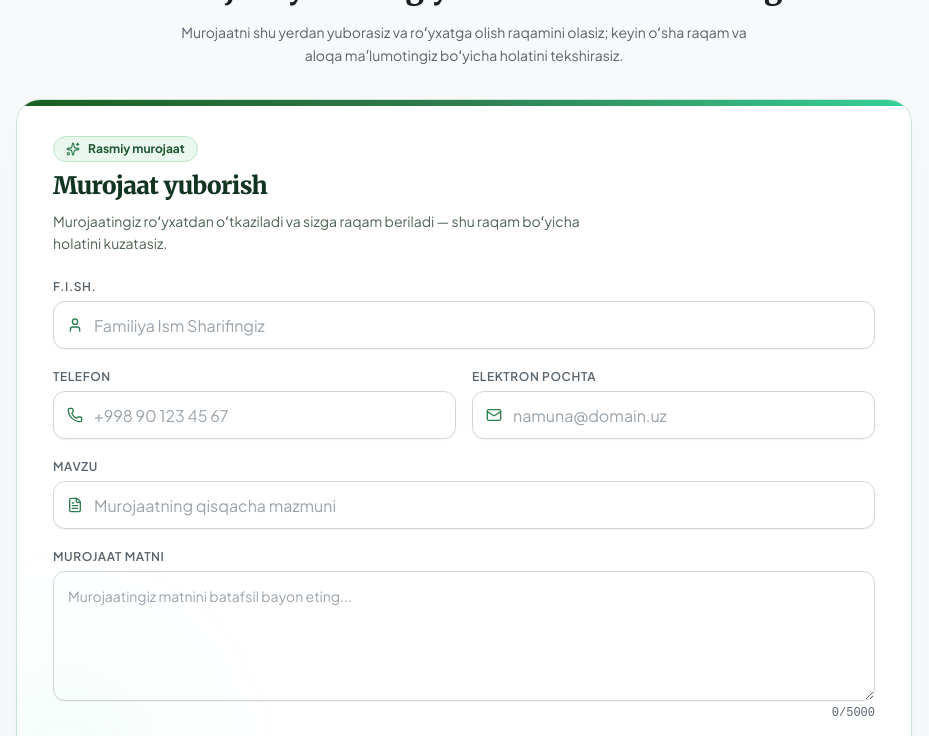
Test: filing an appeal › posts the appeal and shows the registration number it gets back
This screenshot has width=929, height=736.
Type "Aziz Karimov" into the field with id "appeal-file-name" at (464, 325), box [53,301,875,349]
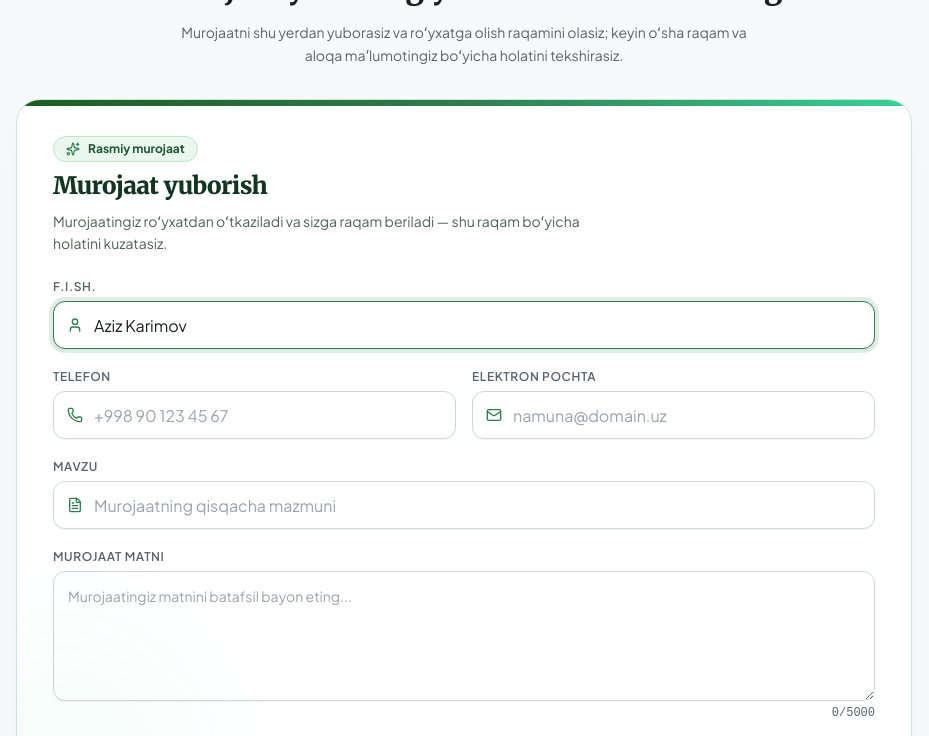
Type "Yaylovdan foydalanish" into the field with id "appeal-file-subject" at (464, 505), box [53,481,875,529]
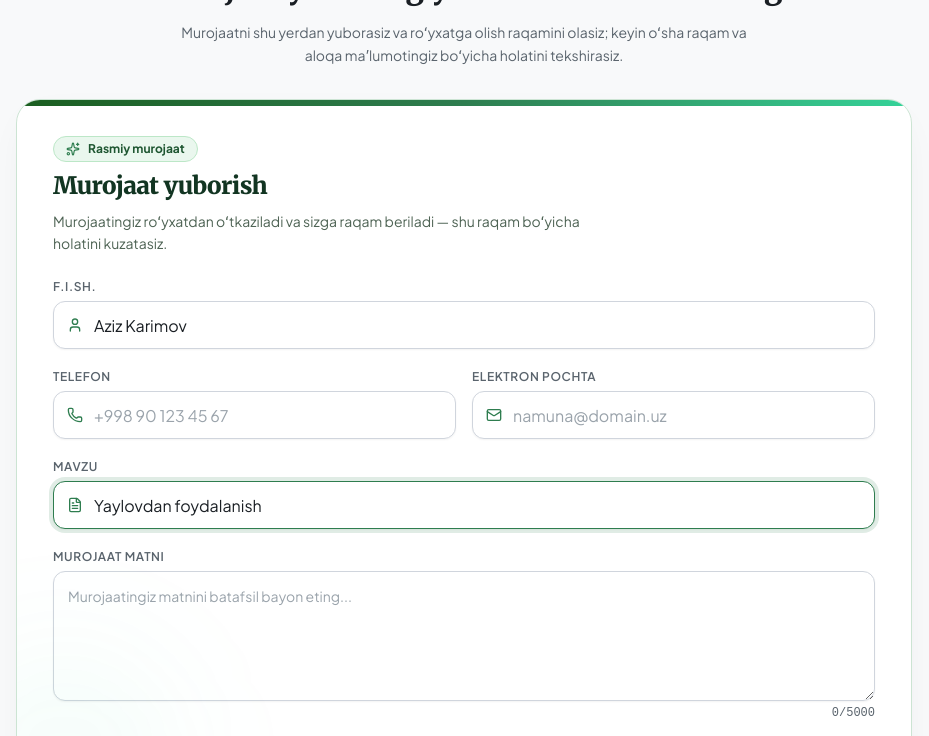
Type "Kontur chegarasi haqida savol." into the text box with id "appeal-file-body" at (464, 636), box [53,571,875,701]
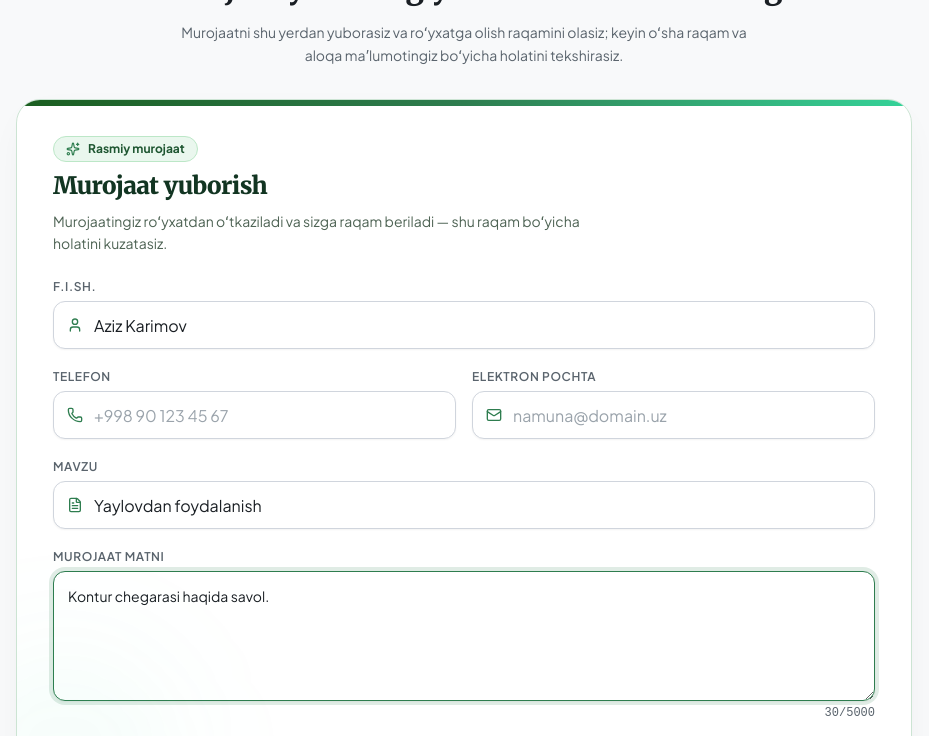
Type "+998901234567" into the field with id "appeal-file-phone" at (254, 415), box [53,391,456,439]
(page scrolled)
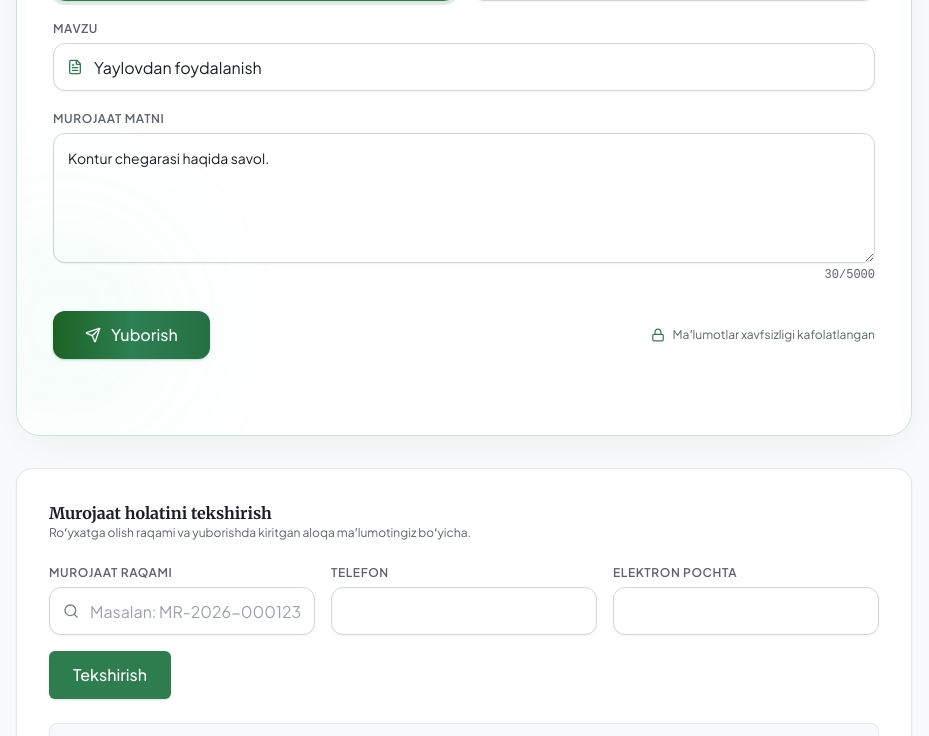
Click the button named "Yuborish" in the row of "Maʼlumotlar xavfsizligi kafolatlangan" at (131, 335), box [53,311,210,359]
(page scrolled)
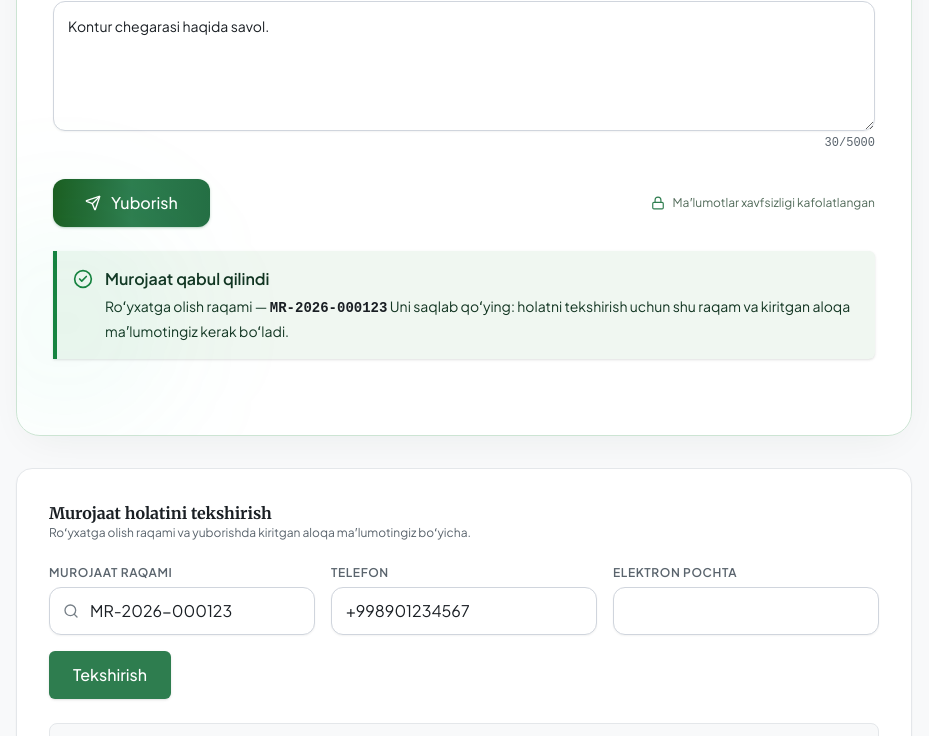
Check: the text "MR-2026-000123" is shown, box [270,300,387,316]
